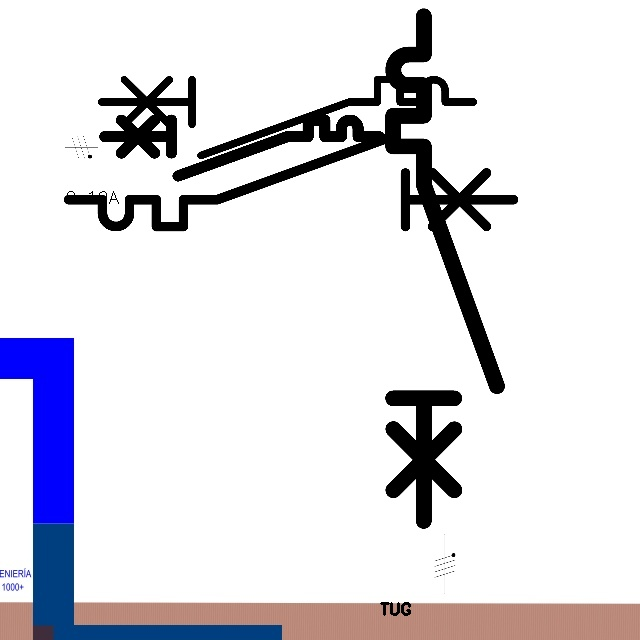interruptor_termomagnetico: (380, 3, 510, 534), (57, 124, 525, 238), (92, 70, 483, 165), (97, 113, 385, 183)
